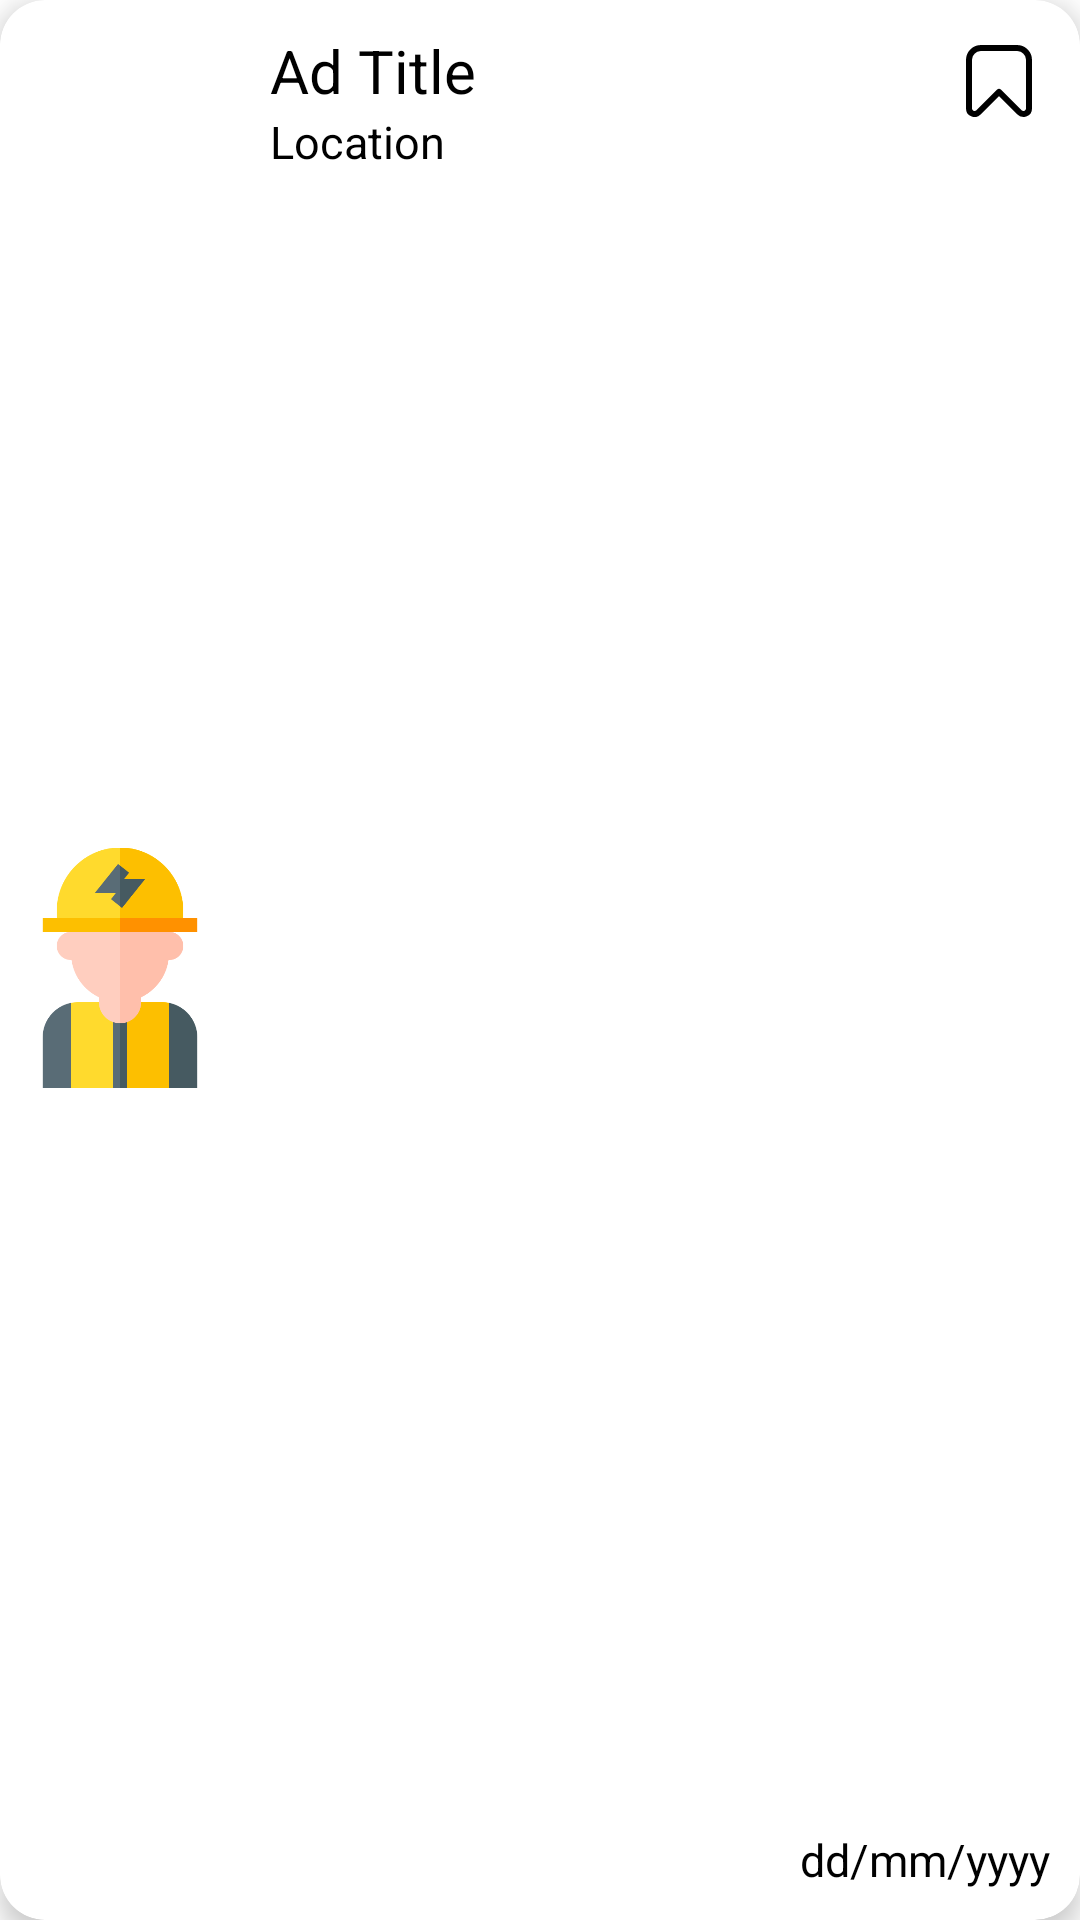

Named icons in this screenshot (1080*1920) and their centers, (x=x, y=y):
wishlist item: (x=999, y=81)
